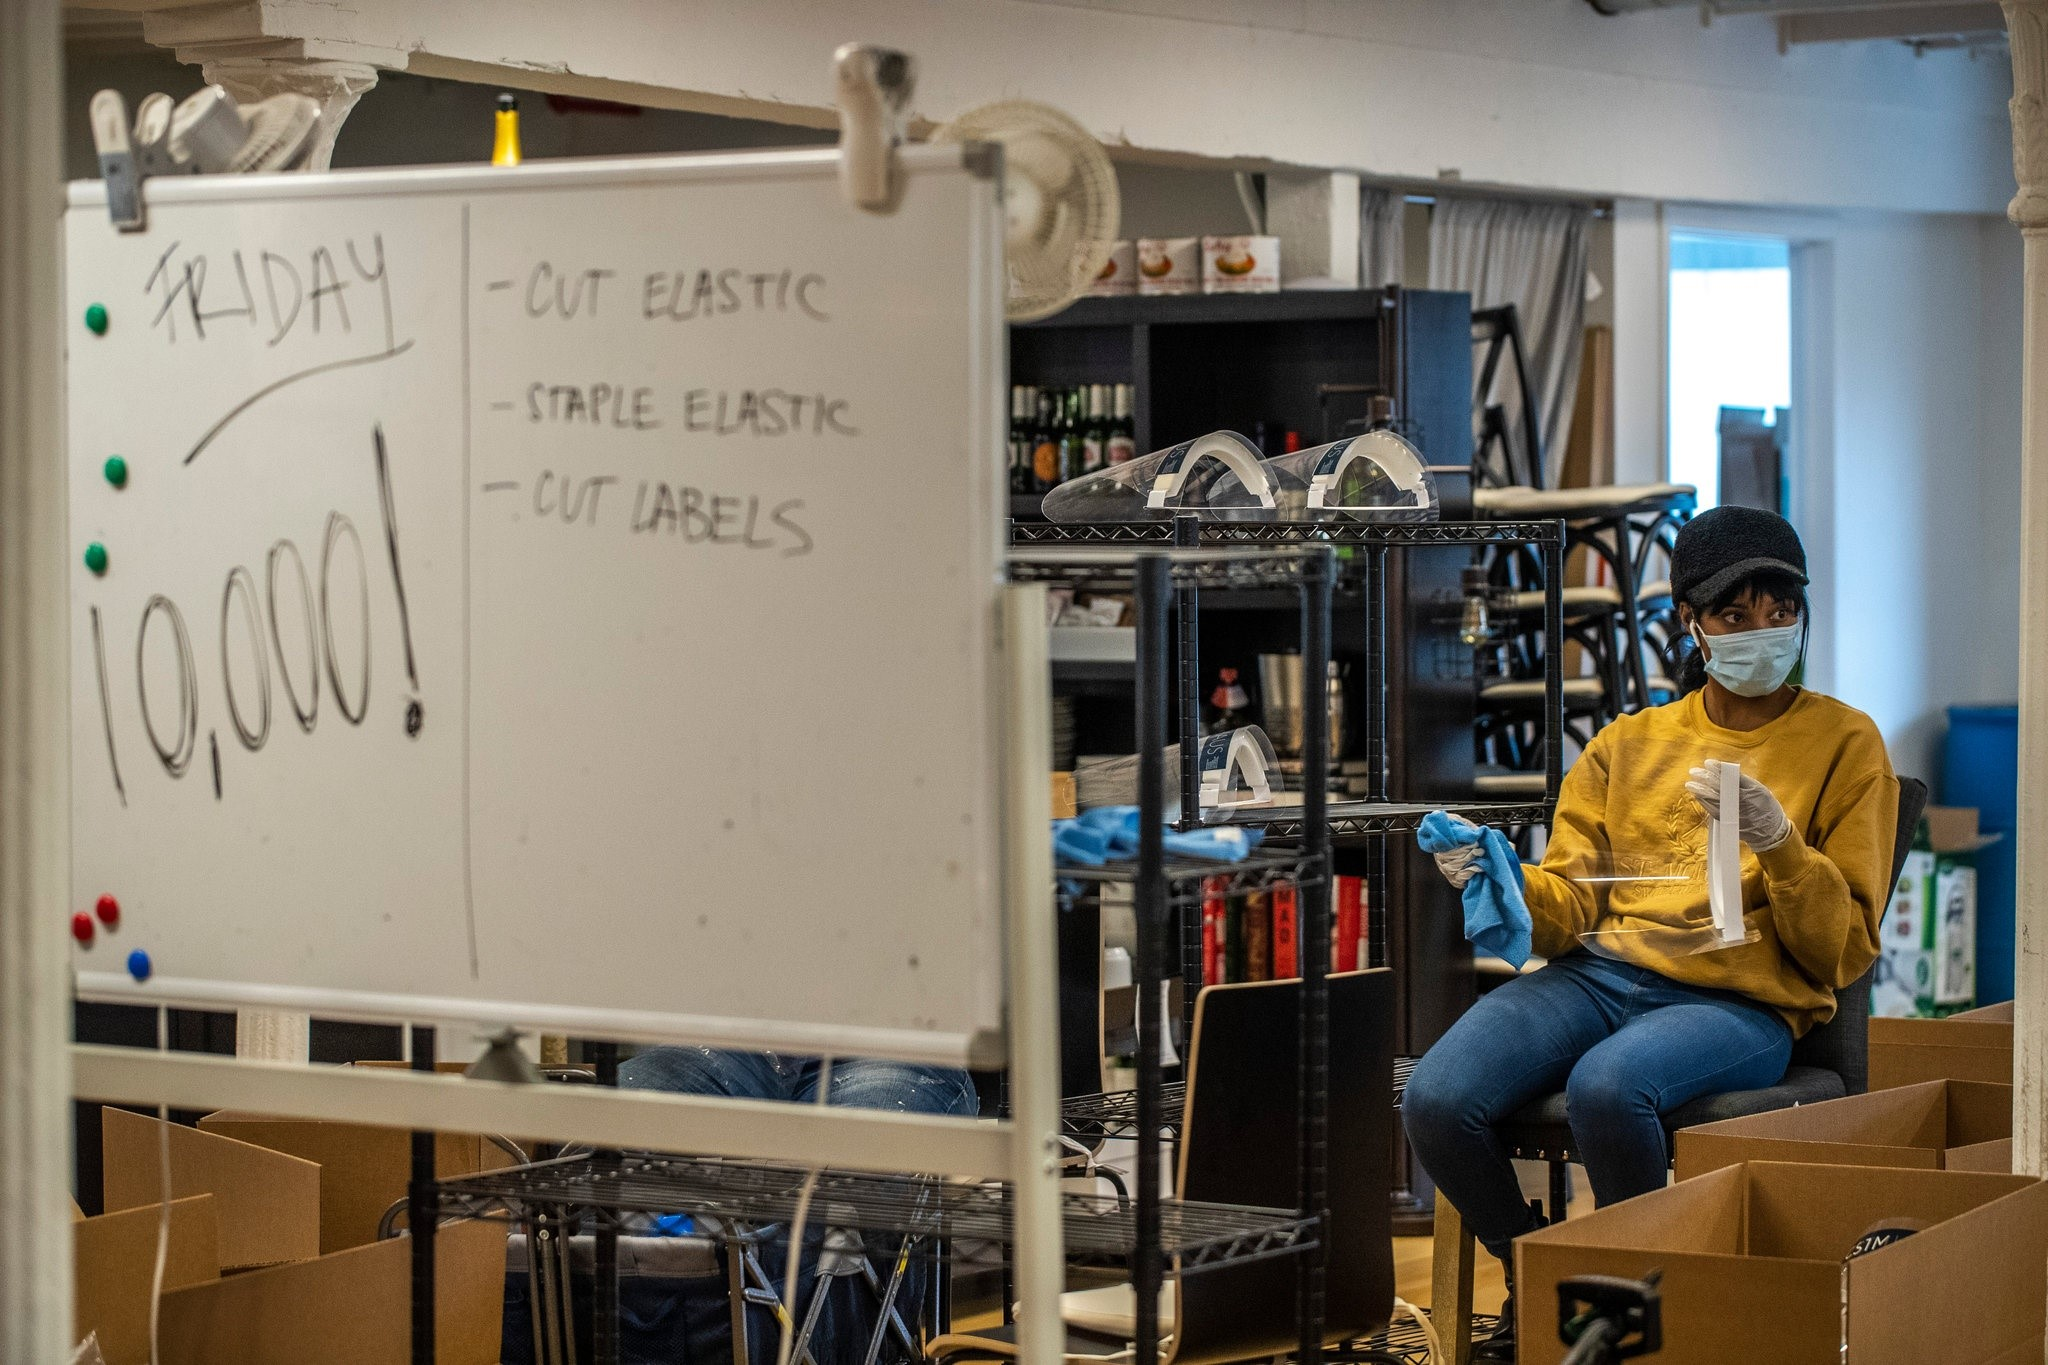face_with_mask: (1674, 501, 1811, 706)
